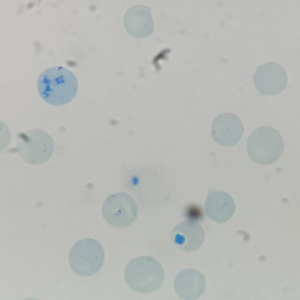aggregate reticulocyte: (35, 64, 80, 108)
erythrocyte: (121, 253, 166, 296), (244, 124, 287, 166), (100, 190, 139, 230), (250, 60, 290, 98), (168, 218, 207, 254), (121, 3, 157, 40), (203, 187, 238, 225), (172, 266, 209, 300)
punctate reticulocyte: (67, 236, 107, 279), (14, 128, 57, 167), (209, 111, 246, 148)
